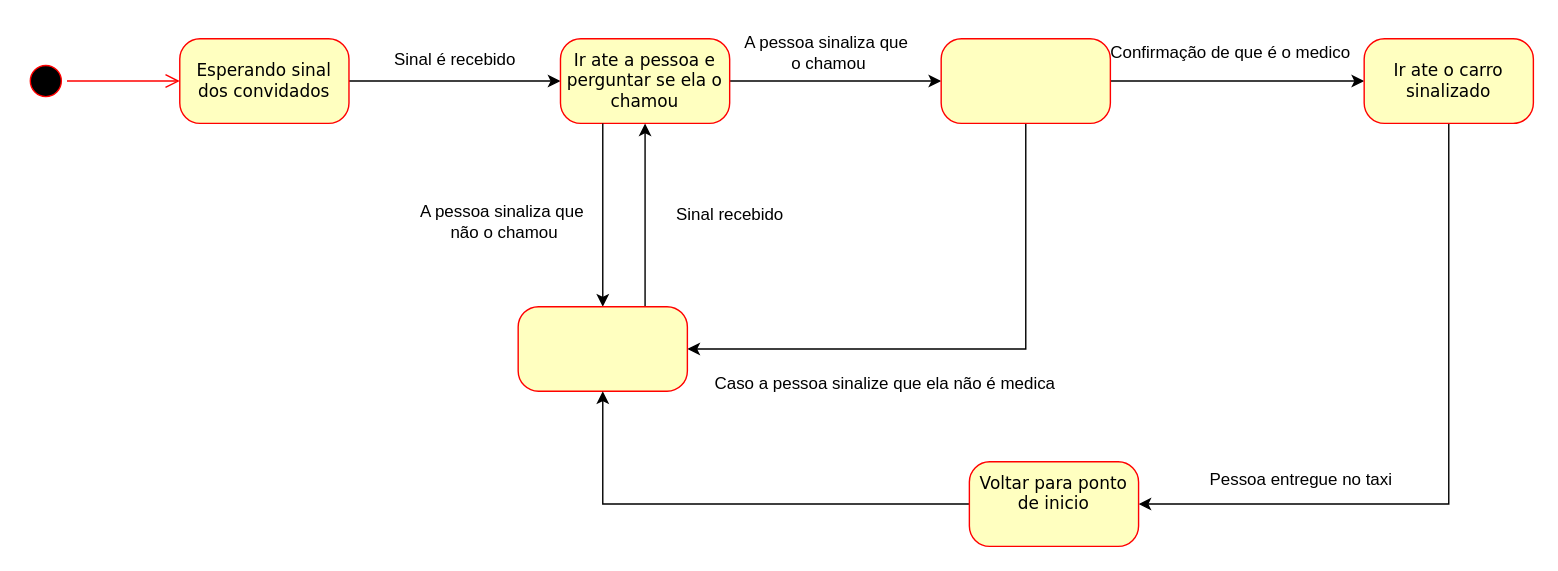
Some shapes in this 1558 by 571 pixel diagram are drawn without their labels. Here are the shapes that lost their labels. From the top down, the centre of each, then its label:
At (1025,80): "Perguntar se ela é medica".
At (602,348): "Perguntar quem / se chamou".
